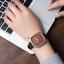watch: (29, 31, 49, 48)
